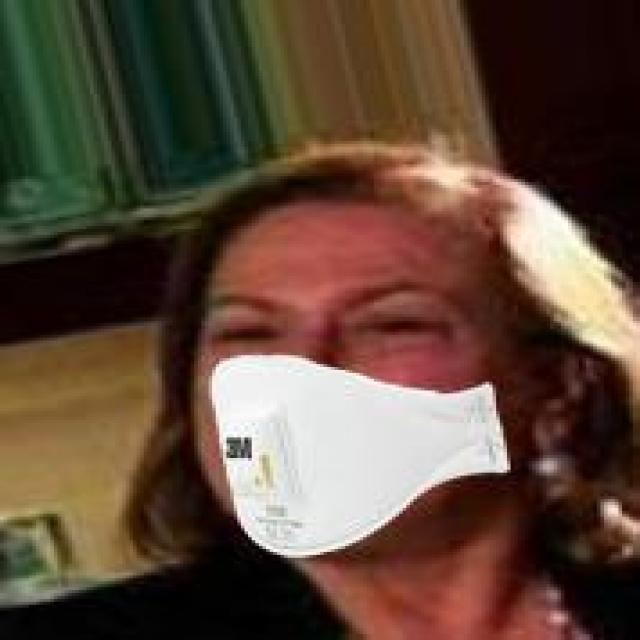mask: (148, 73, 630, 602)
